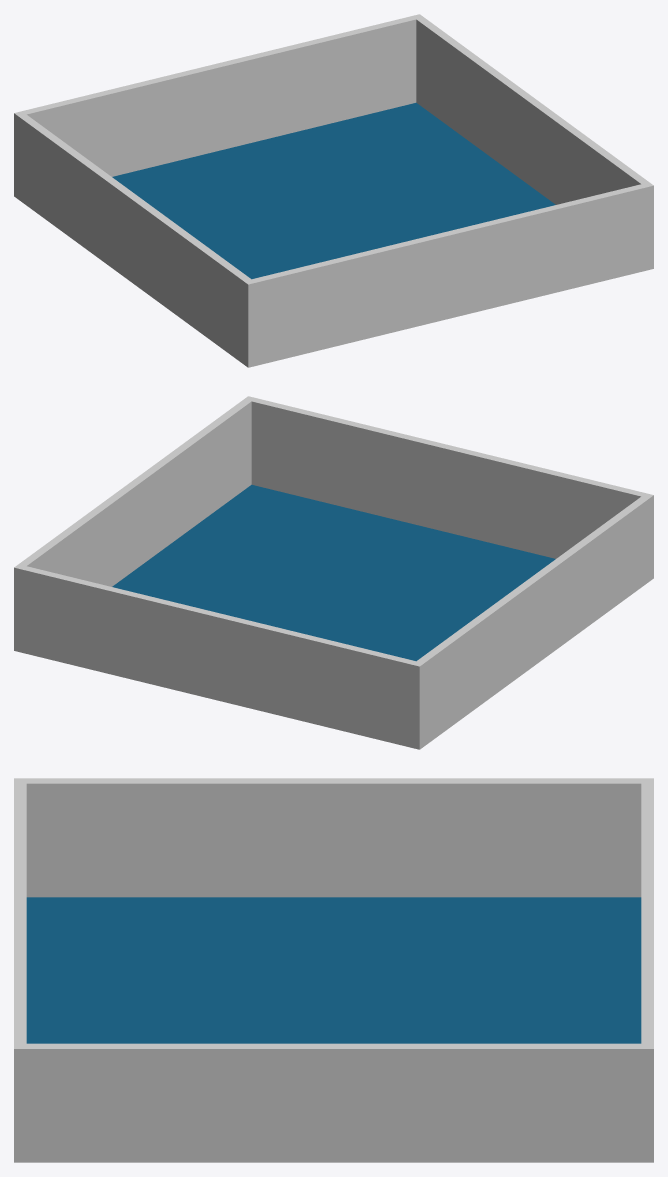
The model's file is c4dlevel_animated.fbx.
The picture shows the model from 3 angles, top to bottom: view 1: azimuth 30°, elevation 25°; view 2: azimuth 150°, elevation 25°; view 3: azimuth 270°, elevation 25°; orthographic projection. The views are drawn at different scales.
Visible parts, largest first — view 1: Plane, Wall1, Wall2, Wall1_1, Wall1_2; view 2: Plane, Wall2, Wall1, Wall1_1, Wall1_2; view 3: Plane, Wall1_2, Wall1_1, Wall1, Wall2.
Boxes of the visible parts, x1=… form: Plane: x1=112, y1=102, x2=555, y2=279; Wall1: x1=248, y1=183, x2=649, y2=366; Wall2: x1=20, y1=15, x2=416, y2=176; Wall1_1: x1=14, y1=111, x2=256, y2=367; Wall1_2: x1=412, y1=14, x2=653, y2=270; Plane: x1=112, y1=484, x2=555, y2=661; Wall2: x1=18, y1=565, x2=419, y2=748; Wall1: x1=249, y1=398, x2=648, y2=558; Wall1_1: x1=411, y1=493, x2=653, y2=749; Wall1_2: x1=14, y1=396, x2=255, y2=652; Plane: x1=26, y1=897, x2=641, y2=1043; Wall1_2: x1=14, y1=1043, x2=653, y2=1162; Wall1_1: x1=14, y1=778, x2=653, y2=897; Wall1: x1=14, y1=781, x2=26, y2=1045; Wall2: x1=641, y1=781, x2=653, y2=1046.
Bounding box in the file's own units: 1020 × 200 × 1020.
